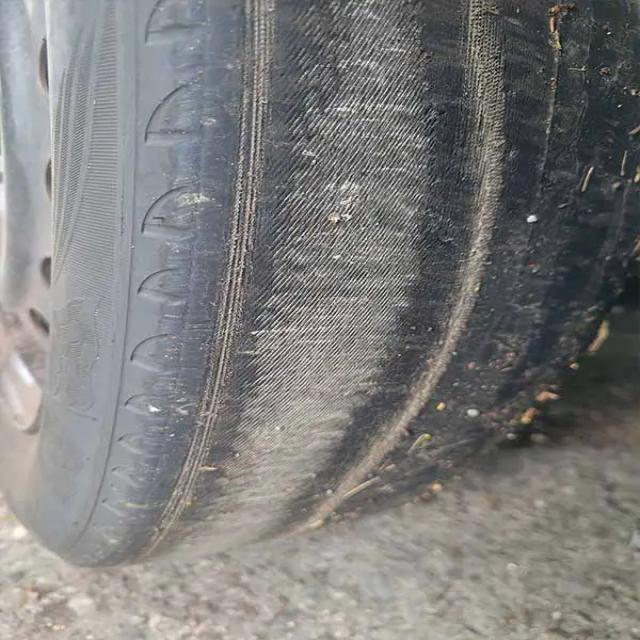Flat spots: (94, 0, 602, 399)
